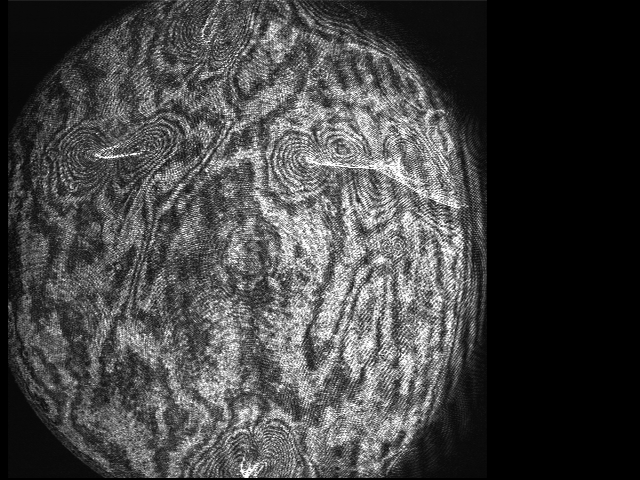plume: (266, 125, 373, 199), (58, 122, 180, 183), (162, 1, 255, 66)
